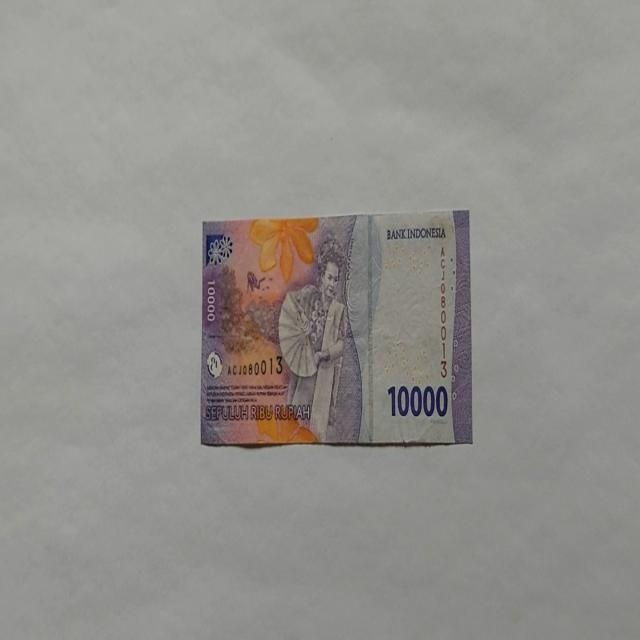sepuluh ribu rupiah: (200, 209, 472, 448)
